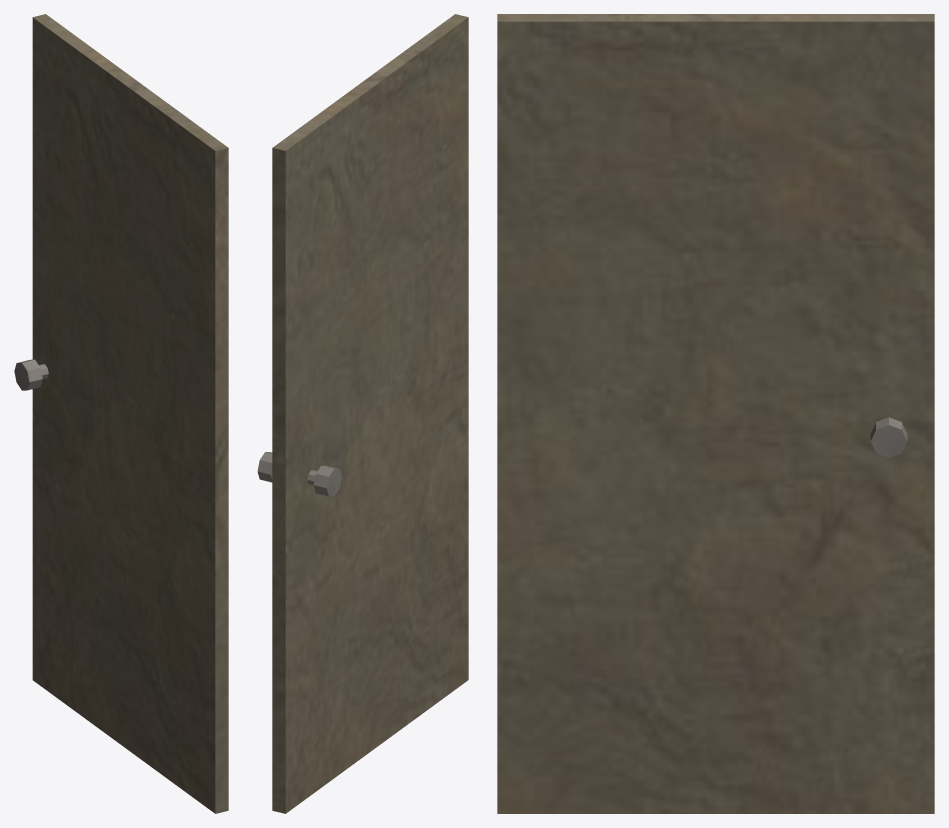
The model's file is Door.obj.
3 views of the same model, side by side, from view 1: azimuth 30°, elevation 25°; view 2: azimuth 150°, elevation 25°; view 3: azimuth 270°, elevation 25° (orthographic). The views are drawn at different scales.
Visible parts, largest first — view 1: entity1_brush2, entity1_brush0; view 2: entity1_brush2, entity1_brush0, entity2_brush1; view 3: entity1_brush2, entity2_brush1.
Boxes of the visible parts, x1,y1,x2,y2 form: entity1_brush2: [32, 14, 228, 813]; entity1_brush0: [14, 359, 42, 390]; entity1_brush2: [272, 14, 468, 813]; entity1_brush0: [313, 465, 341, 496]; entity2_brush1: [257, 452, 272, 482]; entity1_brush2: [497, 14, 934, 813]; entity2_brush1: [870, 417, 907, 457].
Size of the model in its own units: 21 by 192 by 96.
